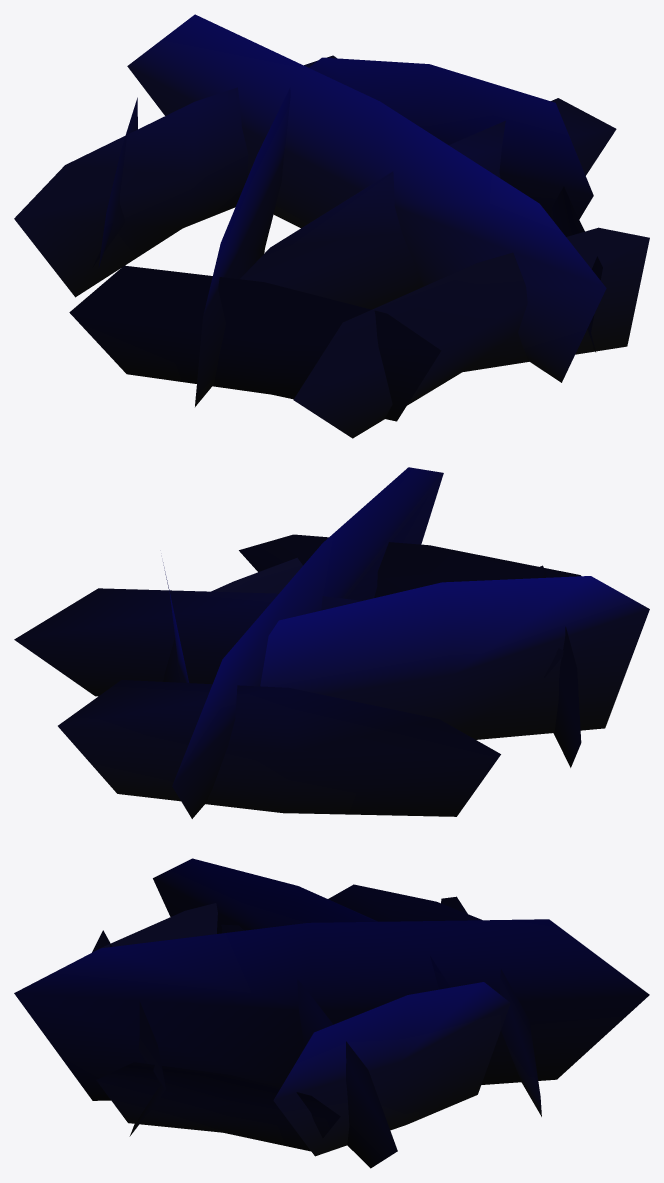
Rendered from SM_Grass_XS_Patch_S_04.fbx.
The picture shows the model from 3 angles, top to bottom: view 1: azimuth 30°, elevation 25°; view 2: azimuth 150°, elevation 25°; view 3: azimuth 270°, elevation 25°; orthographic projection. The views are drawn at different scales.
Visible parts, largest first — view 1: SM_Grass_XS_Patch_S_04; view 2: SM_Grass_XS_Patch_S_04; view 3: SM_Grass_XS_Patch_S_04.
Boxes of the visible parts, box(x1,y1,x2,y2) form: SM_Grass_XS_Patch_S_04: box(14, 14, 649, 438); SM_Grass_XS_Patch_S_04: box(14, 467, 649, 818); SM_Grass_XS_Patch_S_04: box(14, 858, 649, 1168).
Bounding box in the file's own units: 61.99 × 71.09 × 20.14.
